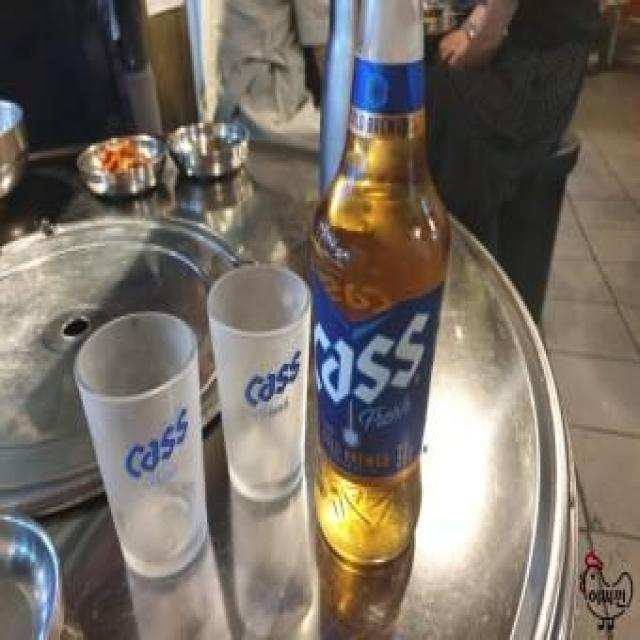beer-bottle: (299, 0, 457, 582)
